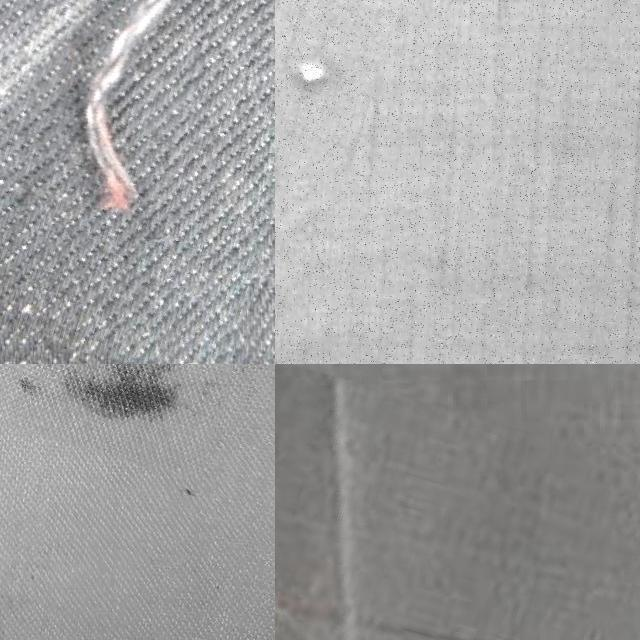Thread_other: (0, 364, 263, 467), (136, 475, 216, 533)
other: (275, 0, 385, 165)
stains: (275, 371, 640, 640)
